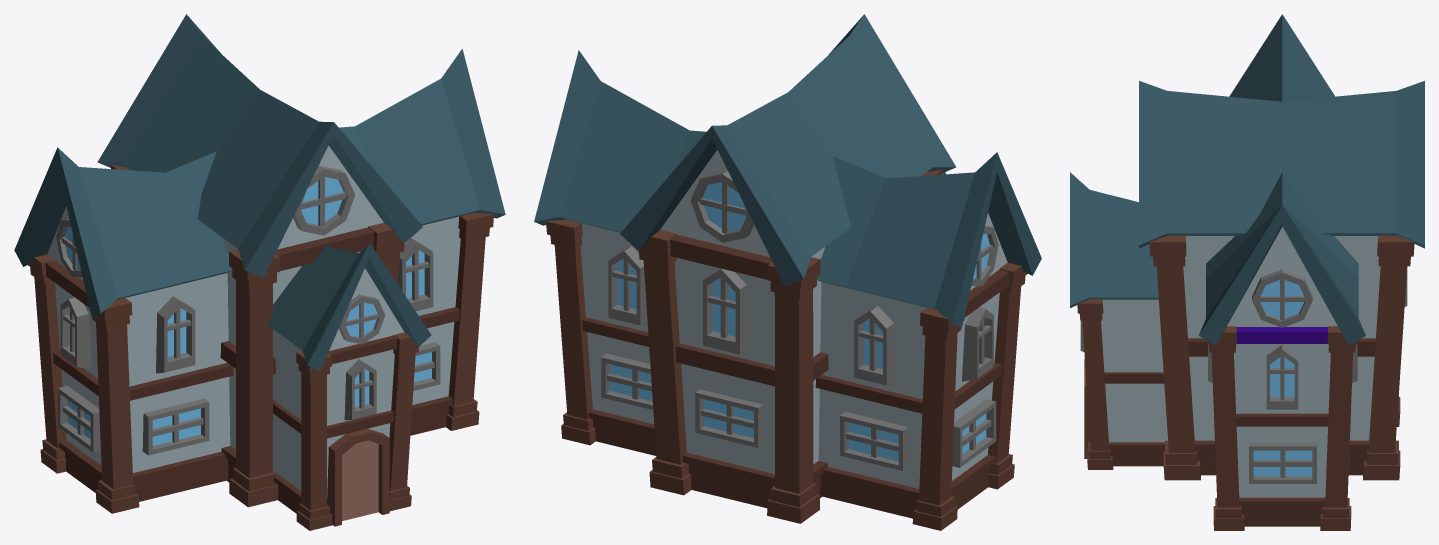
The model's file is CASA07.fbx.
3 renders of one model, left to right at view 1: azimuth 30°, elevation 25°; view 2: azimuth 150°, elevation 25°; view 3: azimuth 270°, elevation 25°, orthographic. The views are drawn at different scales.
Parts seen in each view (by area): view 1: CASA07; view 2: CASA07; view 3: CASA07.
Part boxes in pixels (<box>): CASA07: <box>14,14,505,530</box>; CASA07: <box>534,14,1041,530</box>; CASA07: <box>1070,14,1424,530</box>.
Bounding box in the file's own units: 1331 × 1185 × 1043.
1 material, 1 textured.
